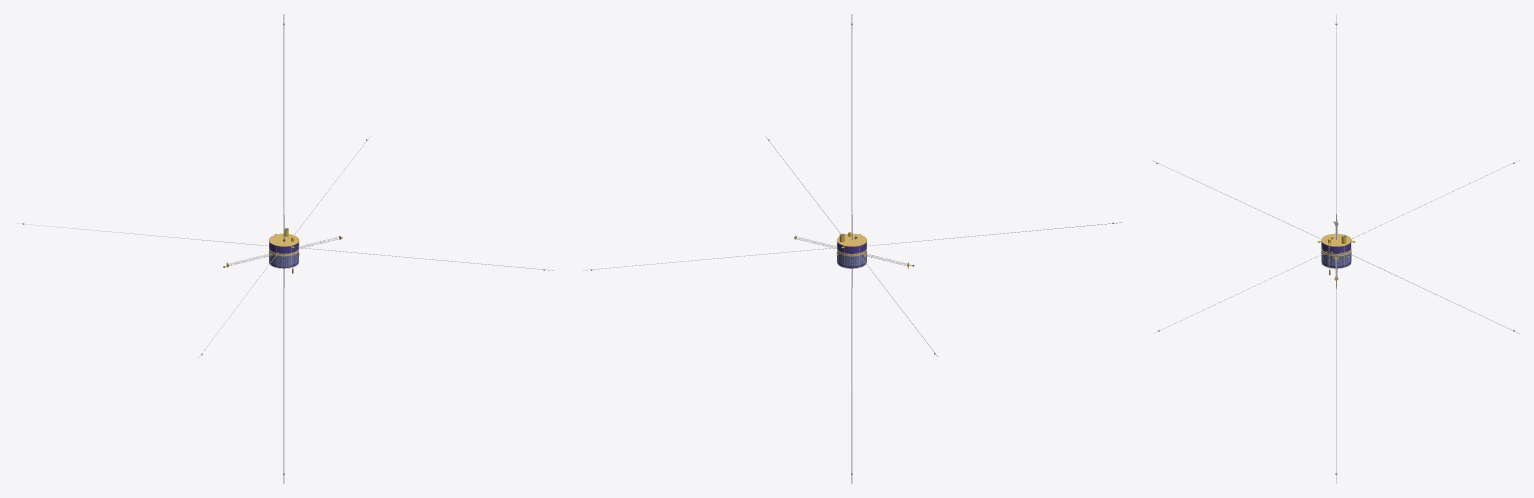
File: wind.glb
The picture shows the model from 3 angles, left to right: view 1: azimuth 30°, elevation 25°; view 2: azimuth 150°, elevation 25°; view 3: azimuth 270°, elevation 25°; orthographic projection.
Parts seen in each view (by area): view 1: Layer_0; view 2: Layer_0; view 3: Layer_0.
Part boxes in pixels (bbox=[...]): Layer_0: bbox=[14, 14, 553, 483]; Layer_0: bbox=[582, 14, 1121, 483]; Layer_0: bbox=[1151, 14, 1519, 483].
Bounding box in the file's own units: 41.63 × 52.43 × 37.3.
